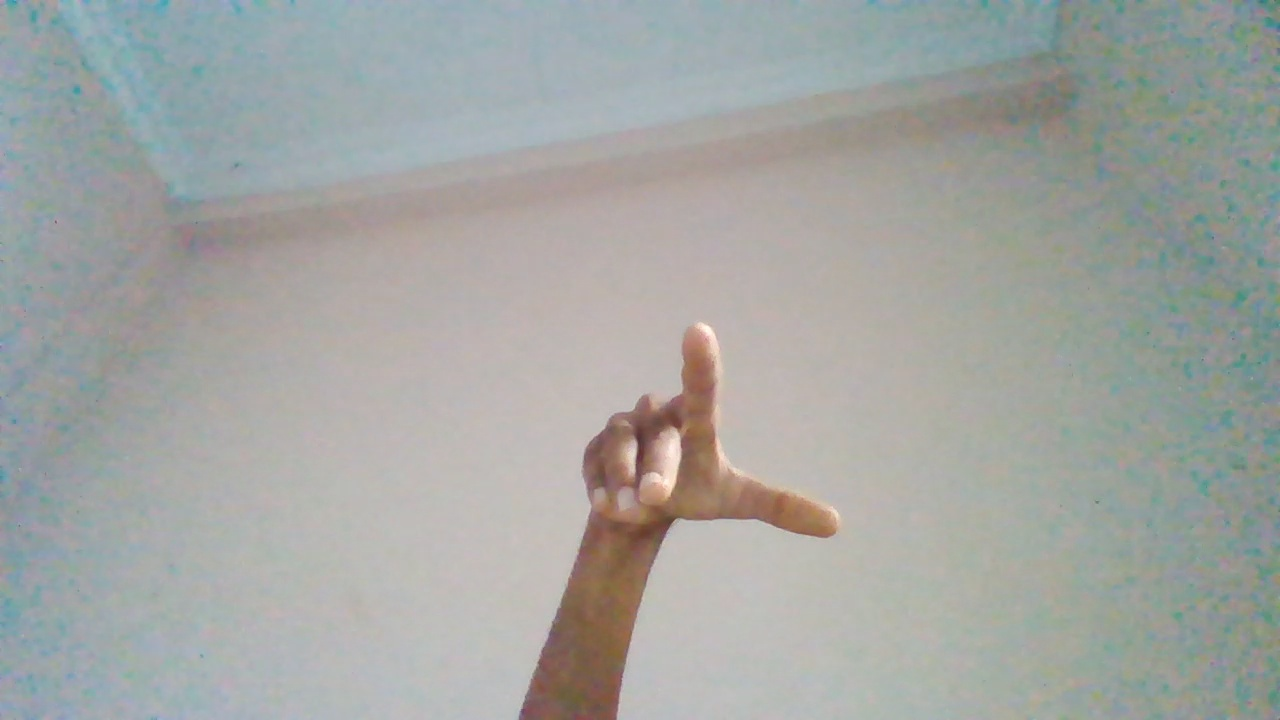ke: (582, 325, 840, 710)
